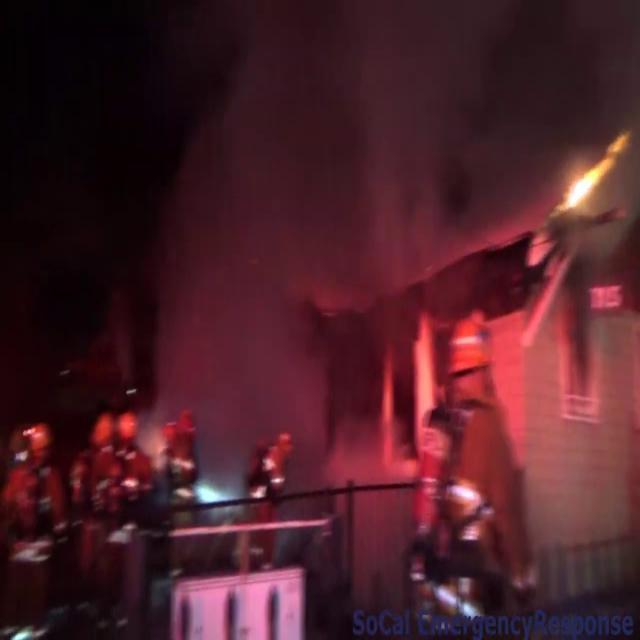Fire: (558, 123, 636, 221)
Smoke: (123, 0, 602, 454)
